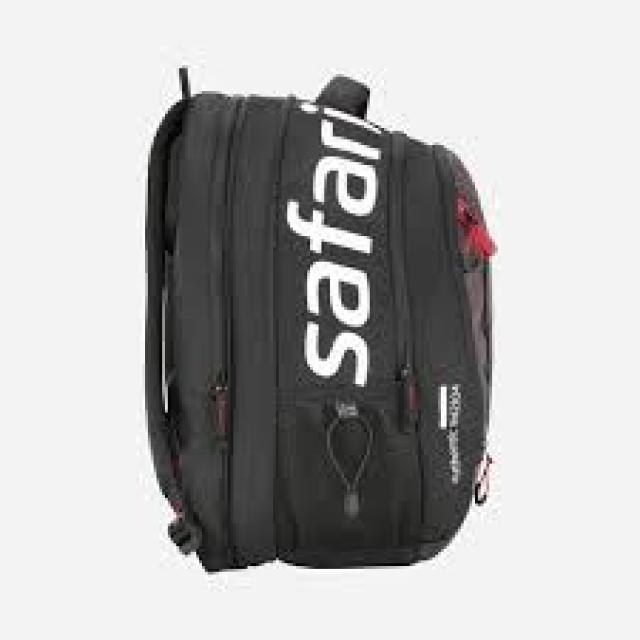backpack: (142, 62, 495, 572)
